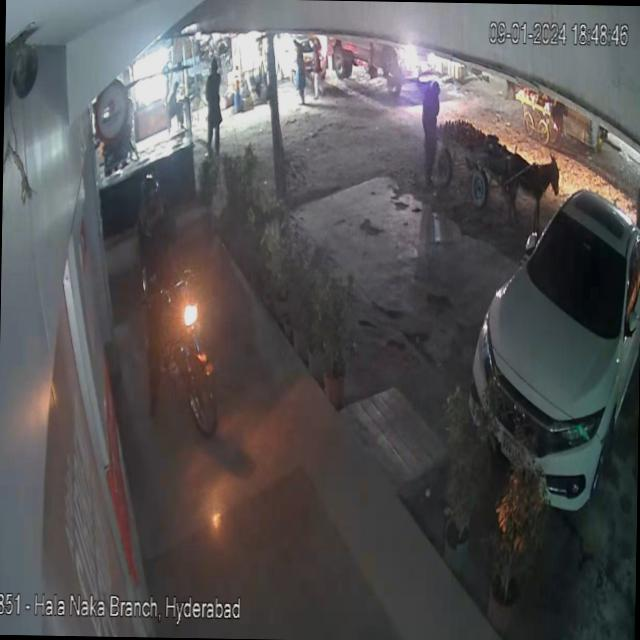Car: (465, 166, 640, 530)
Motorcycle: (144, 276, 226, 446)
